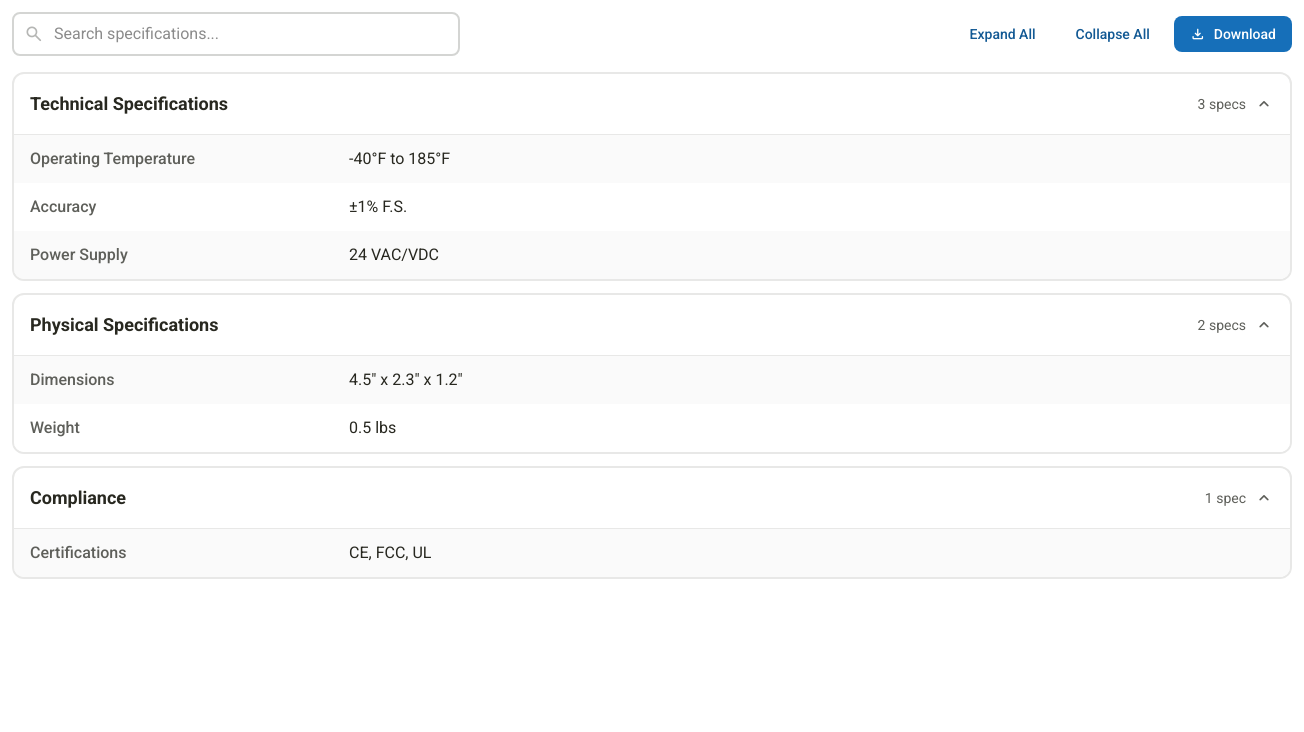
Scenario: ProductSpecifications Component › Group Expansion/Collapse › collapses group when header is clicked
Click the heading "Technical Specifications" at (129, 104), box x1=30 y1=90 x2=228 y2=118
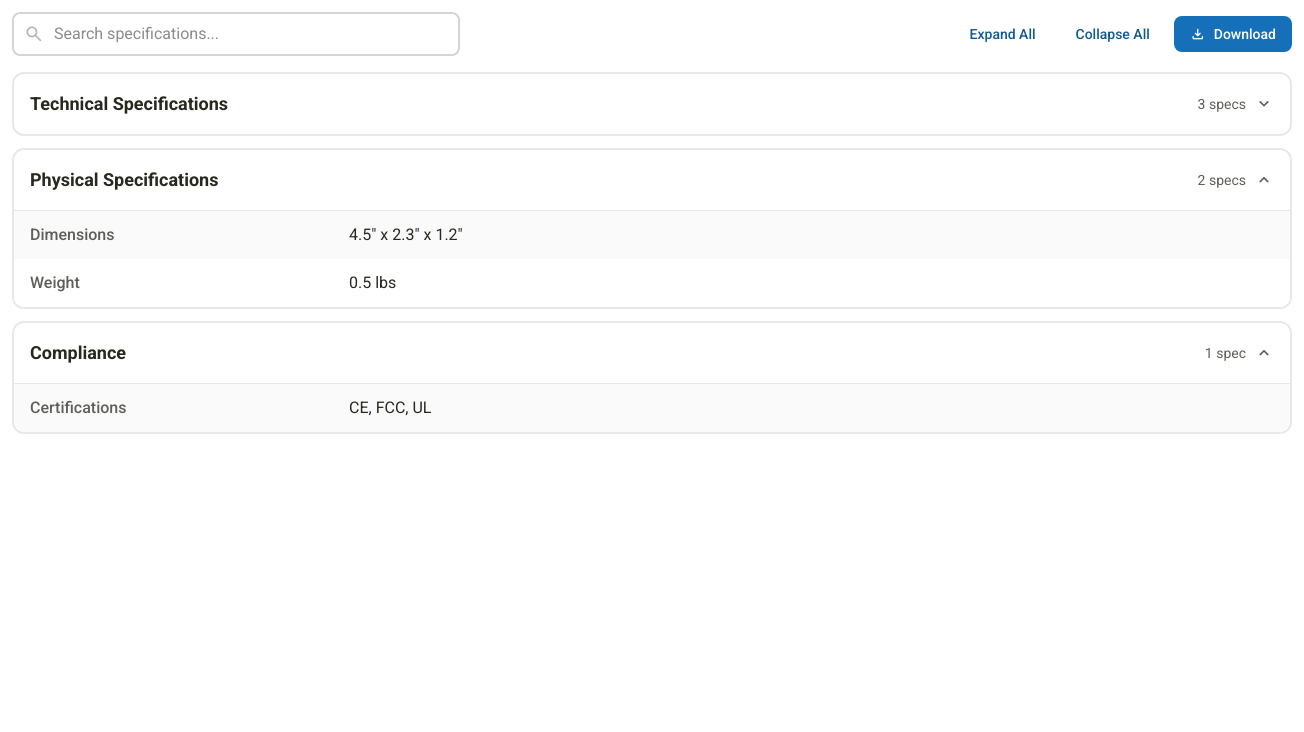
Check: the text "Operating Temperature" is gone
